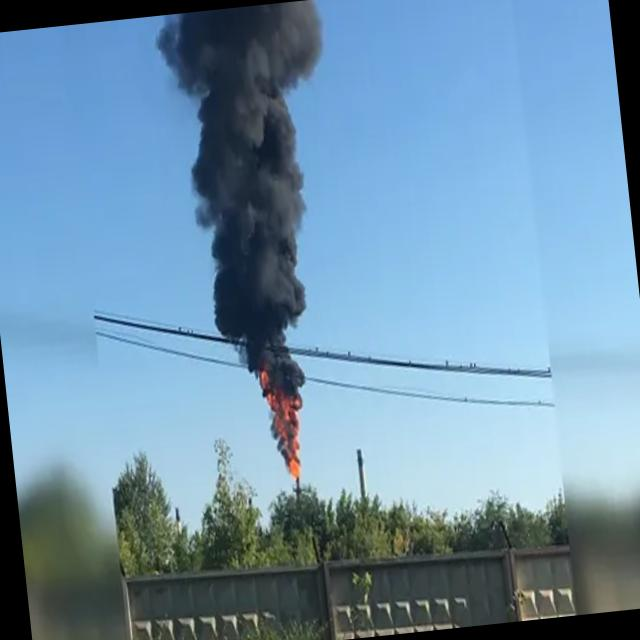Smoke: (152, 0, 367, 488)
